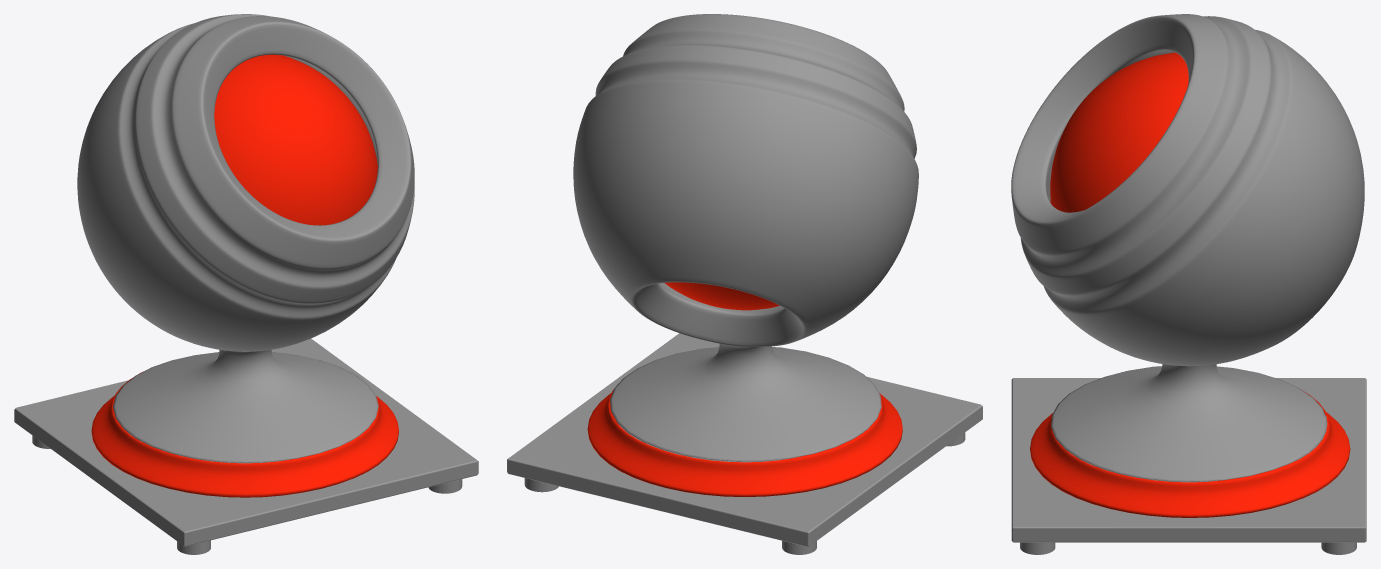
File: Sample.FBX
3 views of the same model, side by side, from view 1: azimuth 30°, elevation 25°; view 2: azimuth 150°, elevation 25°; view 3: azimuth 270°, elevation 25° (orthographic). The views are drawn at different scales.
Parts seen in each view (by area): view 1: Inner_Ball001; view 2: Inner_Ball001; view 3: Inner_Ball001.
Part boxes in pixels (bbox=[...]): Inner_Ball001: bbox=[14, 14, 478, 554]; Inner_Ball001: bbox=[507, 14, 982, 554]; Inner_Ball001: bbox=[1011, 14, 1366, 554].
Size of the model in its own units: 103 by 146 by 104.
